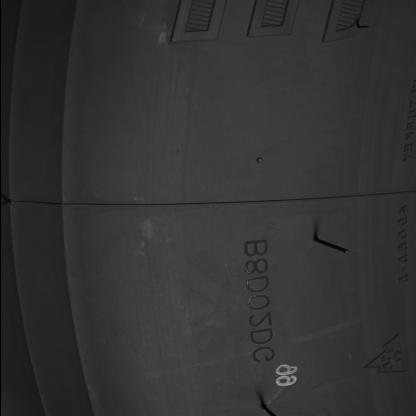ocr: (241, 240, 275, 364)
